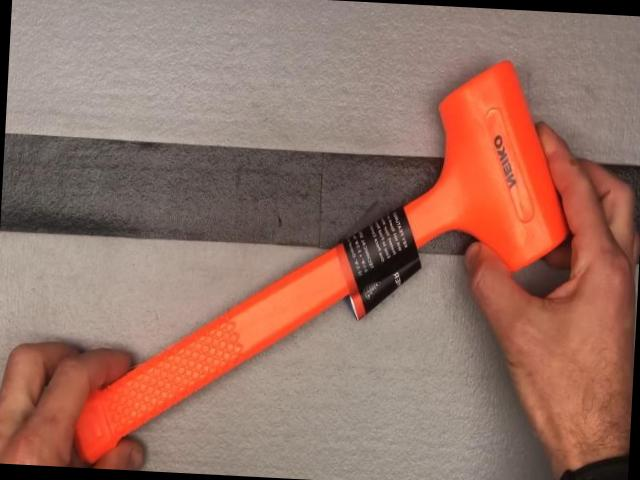hammer: (55, 39, 577, 480)
